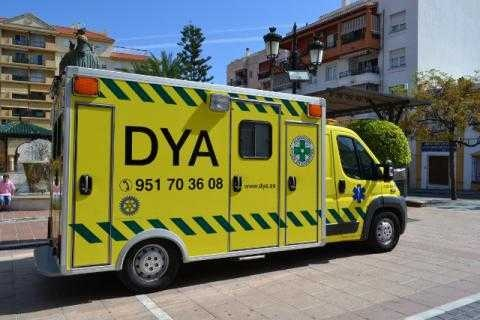Ambulance: (36, 57, 406, 275)
